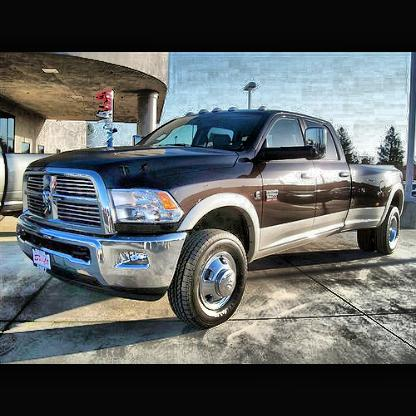Dodge Ram Pickup 3500 Crew Cab 2010: (16, 109, 413, 337)
